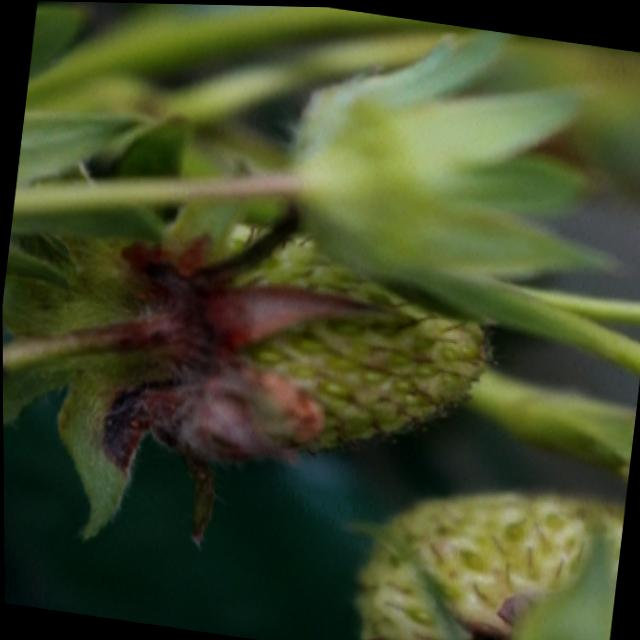Gray Mold: (96, 200, 411, 547), (454, 592, 555, 640)
